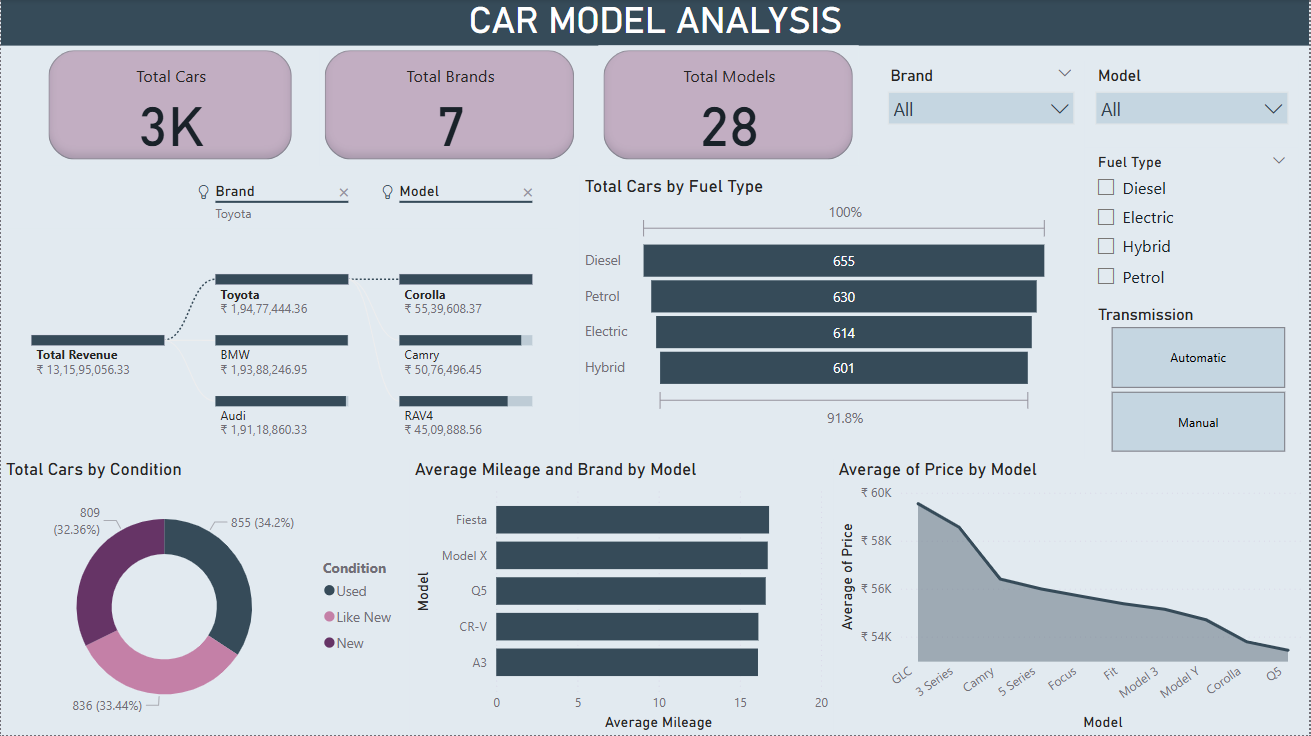

Layout of this report page (visuals, bound fields, positions):
{"tool":"powerbi","page":{"name":"Model Analysis","canvas":[1280,720],"ordinal":1},"visuals":[{"type":"areaChart","fields":{"Category":["car_price_prediction_.Model"],"Y":["Avg(car_price_prediction_.Price)"]},"box":[814.4,450,465.9,270.2],"z":0},{"type":"clusteredBarChart","fields":{"Category":["car_price_prediction_.Model"],"Y":["car_price_prediction_.Avg Mileage"]},"box":[399.9,450,414.5,270.2],"z":1000},{"type":"decompositionTreeVisual","fields":{"ExplainBy":["car_price_prediction_.Brand","car_price_prediction_.Model"],"Analyze":["car_price_prediction_.Total Revenue"]},"box":[0,162.6,550.3,277.6],"z":2000},{"type":"donutChart","fields":{"Category":["car_price_prediction_.Condition"],"Y":["car_price_prediction_.Total Cars"]},"box":[0,450,399.9,270.2],"z":3000},{"type":"cardVisual","fields":{"Data":["car_price_prediction_.Total Brands"]},"box":[311.8,45.2,254.3,117.4],"z":4000},{"type":"cardVisual","fields":{"Data":["car_price_prediction_.Total Cars"]},"box":[41.6,45.2,248.2,117.4],"z":5000},{"type":"textbox","title":"CAR MODEL ANALYSIS","box":[0,0,1280.3,45.2],"z":6000},{"type":"funnel","fields":{"Category":["car_price_prediction_.Fuel Type"],"Y":["car_price_prediction_.Total Cars"]},"box":[566.2,172.4,464.7,253.1],"z":7000},{"type":"cardVisual","fields":{"Data":["car_price_prediction_.Total Models"]},"box":[584.5,45.2,254.3,117.4],"z":8000},{"type":"slicer","fields":{"Values":["car_price_prediction_.Brand"]},"box":[857.2,61.1,203,84.4],"z":9000},{"type":"slicer","fields":{"Values":["car_price_prediction_.Model"]},"box":[1060.2,61.1,209.1,84.4],"z":10000},{"type":"slicer","fields":{"Values":["car_price_prediction_.Fuel Type"]},"box":[1060.2,145.5,209.1,149.2],"z":11000},{"type":"slicer","fields":{"Values":["car_price_prediction_.Transmission"]},"box":[1060.2,294.7,220.1,155.3],"z":12000}]}

Visuals, with their boxes in screenshot pixels (x1, y1, x2, y2), scaled from the page's 1280x720 canvas onto the 1311x736 screenshot:
areaChart - car_price_prediction_.Model x Avg(car_price_prediction_.Price): 834 460 1310 735
clusteredBarChart - car_price_prediction_.Model x car_price_prediction_.Avg Mileage: 410 460 834 735
decompositionTreeVisual - car_price_prediction_.Brand x car_price_prediction_.Model: 0 166 564 450
donutChart - car_price_prediction_.Condition x car_price_prediction_.Total Cars: 0 460 410 735
cardVisual - car_price_prediction_.Total Brands: 319 46 580 166
cardVisual - car_price_prediction_.Total Cars: 43 46 297 166
"CAR MODEL ANALYSIS" textbox: 0 0 1310 46
funnel - car_price_prediction_.Fuel Type x car_price_prediction_.Total Cars: 580 176 1056 435
cardVisual - car_price_prediction_.Total Models: 599 46 859 166
slicer - car_price_prediction_.Brand: 878 62 1086 149
slicer - car_price_prediction_.Model: 1086 62 1300 149
slicer - car_price_prediction_.Fuel Type: 1086 149 1300 301
slicer - car_price_prediction_.Transmission: 1086 301 1310 460
